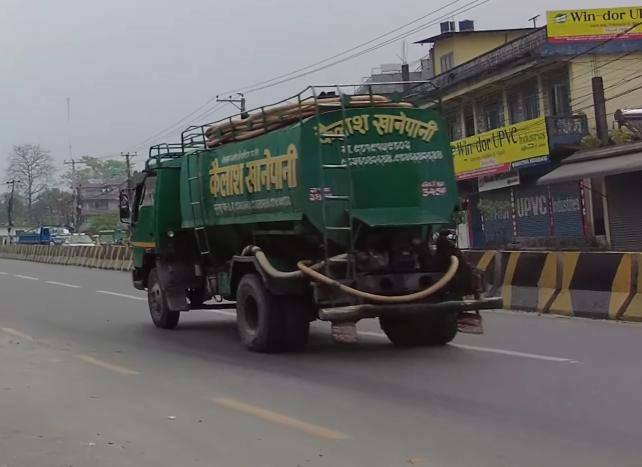mini_truck: (114, 71, 503, 355), (21, 220, 61, 246)
taxi: (63, 232, 94, 252)
